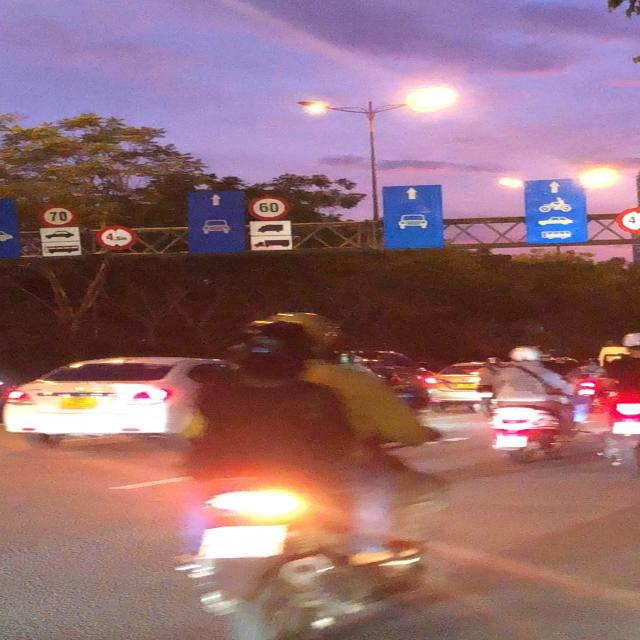Bien bao han che chieu cao: (94, 224, 142, 251)
Bien bao toc do toi da cho phep: (244, 195, 296, 221), (34, 203, 82, 229)
